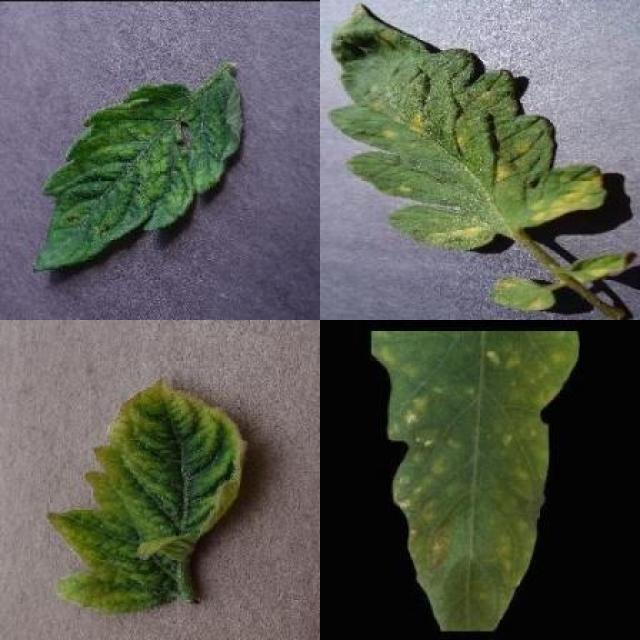Late Blight: (370, 329, 580, 632)
Leaf Mold: (329, 1, 607, 250)
Mosaic Virus: (27, 71, 244, 272)
Yellow Leaf Curl Virus: (44, 376, 245, 618)
